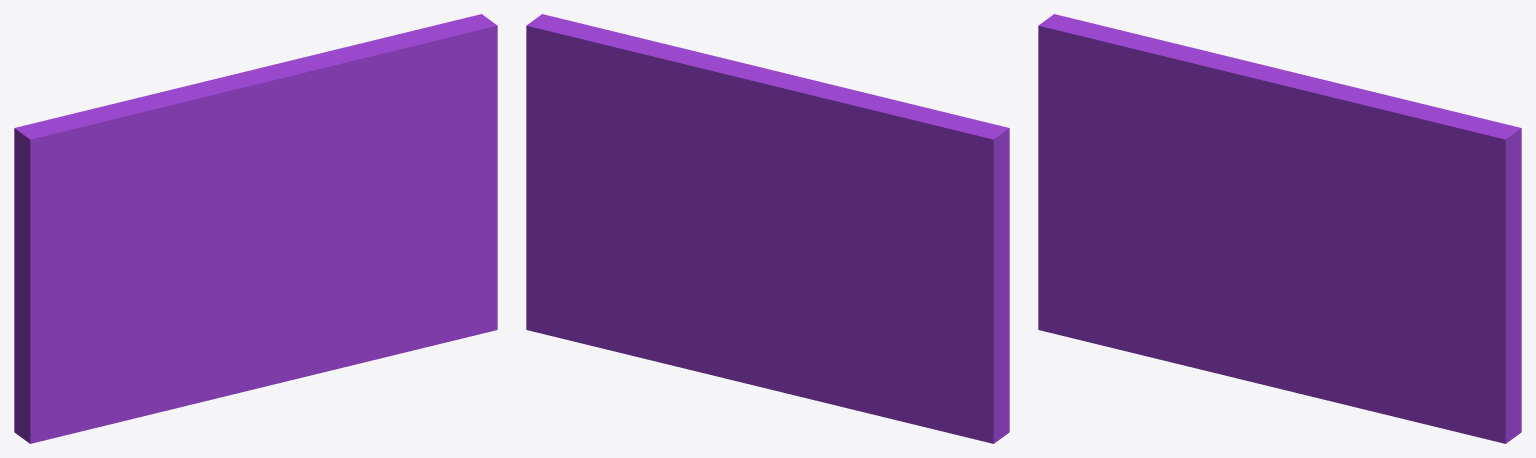
File: Barrier_86_chunks.fbx
3 views of the same model, side by side, from view 1: azimuth 30°, elevation 25°; view 2: azimuth 150°, elevation 25°; view 3: azimuth 330°, elevation 25° (orthographic).
Parts seen in each view (by area): view 1: Barrier_86_1, Barrier_86_0, Barrier_86_3, Barrier_86_4, Barrier_86_6, Barrier_86_5; view 2: Barrier_86_1, Barrier_86_0, Barrier_86_4, Barrier_86_6, Barrier_86_3, Barrier_86_2, Barrier_86_5; view 3: Barrier_86_1, Barrier_86_0, Barrier_86_3, Barrier_86_4, Barrier_86_6, Barrier_86_5.
Part boxes in pixels (bbox=[...]): Barrier_86_1: bbox=[263, 14, 497, 354]; Barrier_86_0: bbox=[14, 59, 310, 340]; Barrier_86_3: bbox=[14, 329, 257, 443]; Barrier_86_4: bbox=[216, 255, 393, 388]; Barrier_86_6: bbox=[14, 280, 173, 422]; Barrier_86_5: bbox=[162, 233, 285, 334]; Barrier_86_1: bbox=[526, 14, 749, 355]; Barrier_86_0: bbox=[711, 59, 1009, 343]; Barrier_86_4: bbox=[632, 256, 830, 393]; Barrier_86_6: bbox=[817, 266, 1009, 434]; Barrier_86_3: bbox=[789, 339, 1009, 443]; Barrier_86_2: bbox=[722, 204, 796, 271]; Barrier_86_5: bbox=[785, 253, 823, 292]; Barrier_86_1: bbox=[1271, 83, 1521, 443]; Barrier_86_0: bbox=[1038, 14, 1335, 232]; Barrier_86_3: bbox=[1038, 285, 1265, 385]; Barrier_86_4: bbox=[1224, 266, 1401, 418]; Barrier_86_6: bbox=[1038, 226, 1181, 299]; Barrier_86_5: bbox=[1170, 230, 1294, 310].
Bounding box in the file's own units: 462 × 288 × 27.2.
